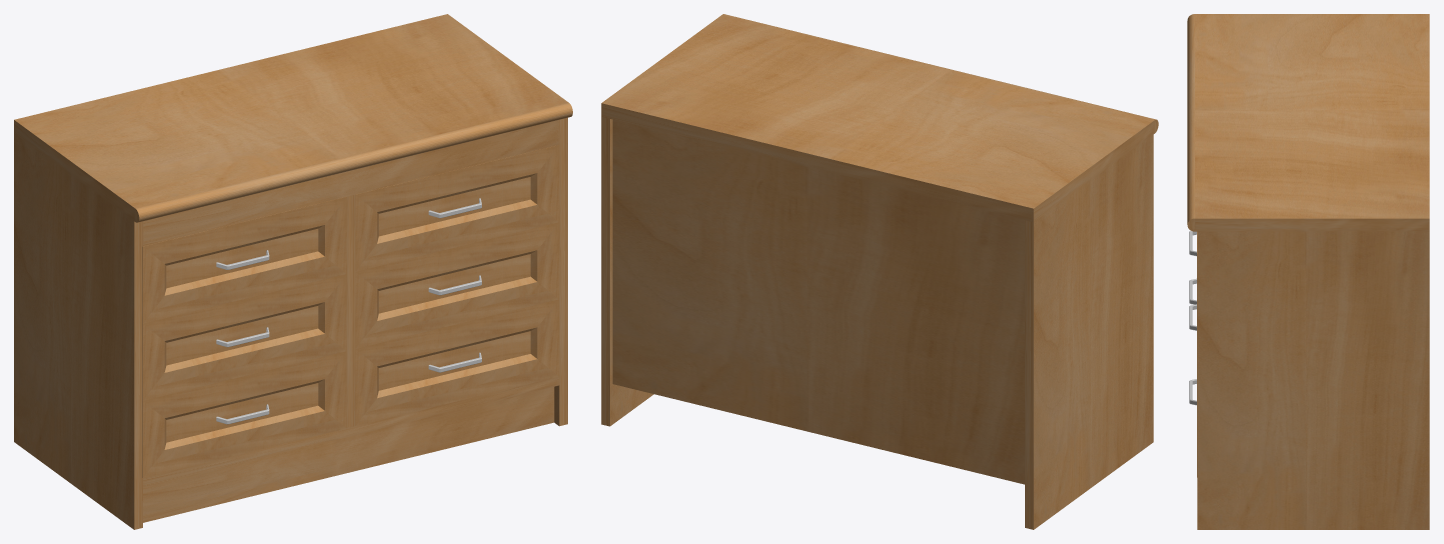
Rendered from dresser-6-drawers.glb.
The picture shows the model from 3 angles, left to right: view 1: azimuth 30°, elevation 25°; view 2: azimuth 150°, elevation 25°; view 3: azimuth 270°, elevation 25°; orthographic projection. The views are drawn at different scales.
Parts seen in each view (by area): view 1: symbol; view 2: symbol; view 3: symbol.
Boxes of the visible parts, x1,y1,x2,y2 form: symbol: (14, 14, 572, 529); symbol: (601, 14, 1158, 529); symbol: (1187, 14, 1429, 529).
Size of the model in its own units: 1 by 0.71 by 0.5.
7 materials, 4 textured.
